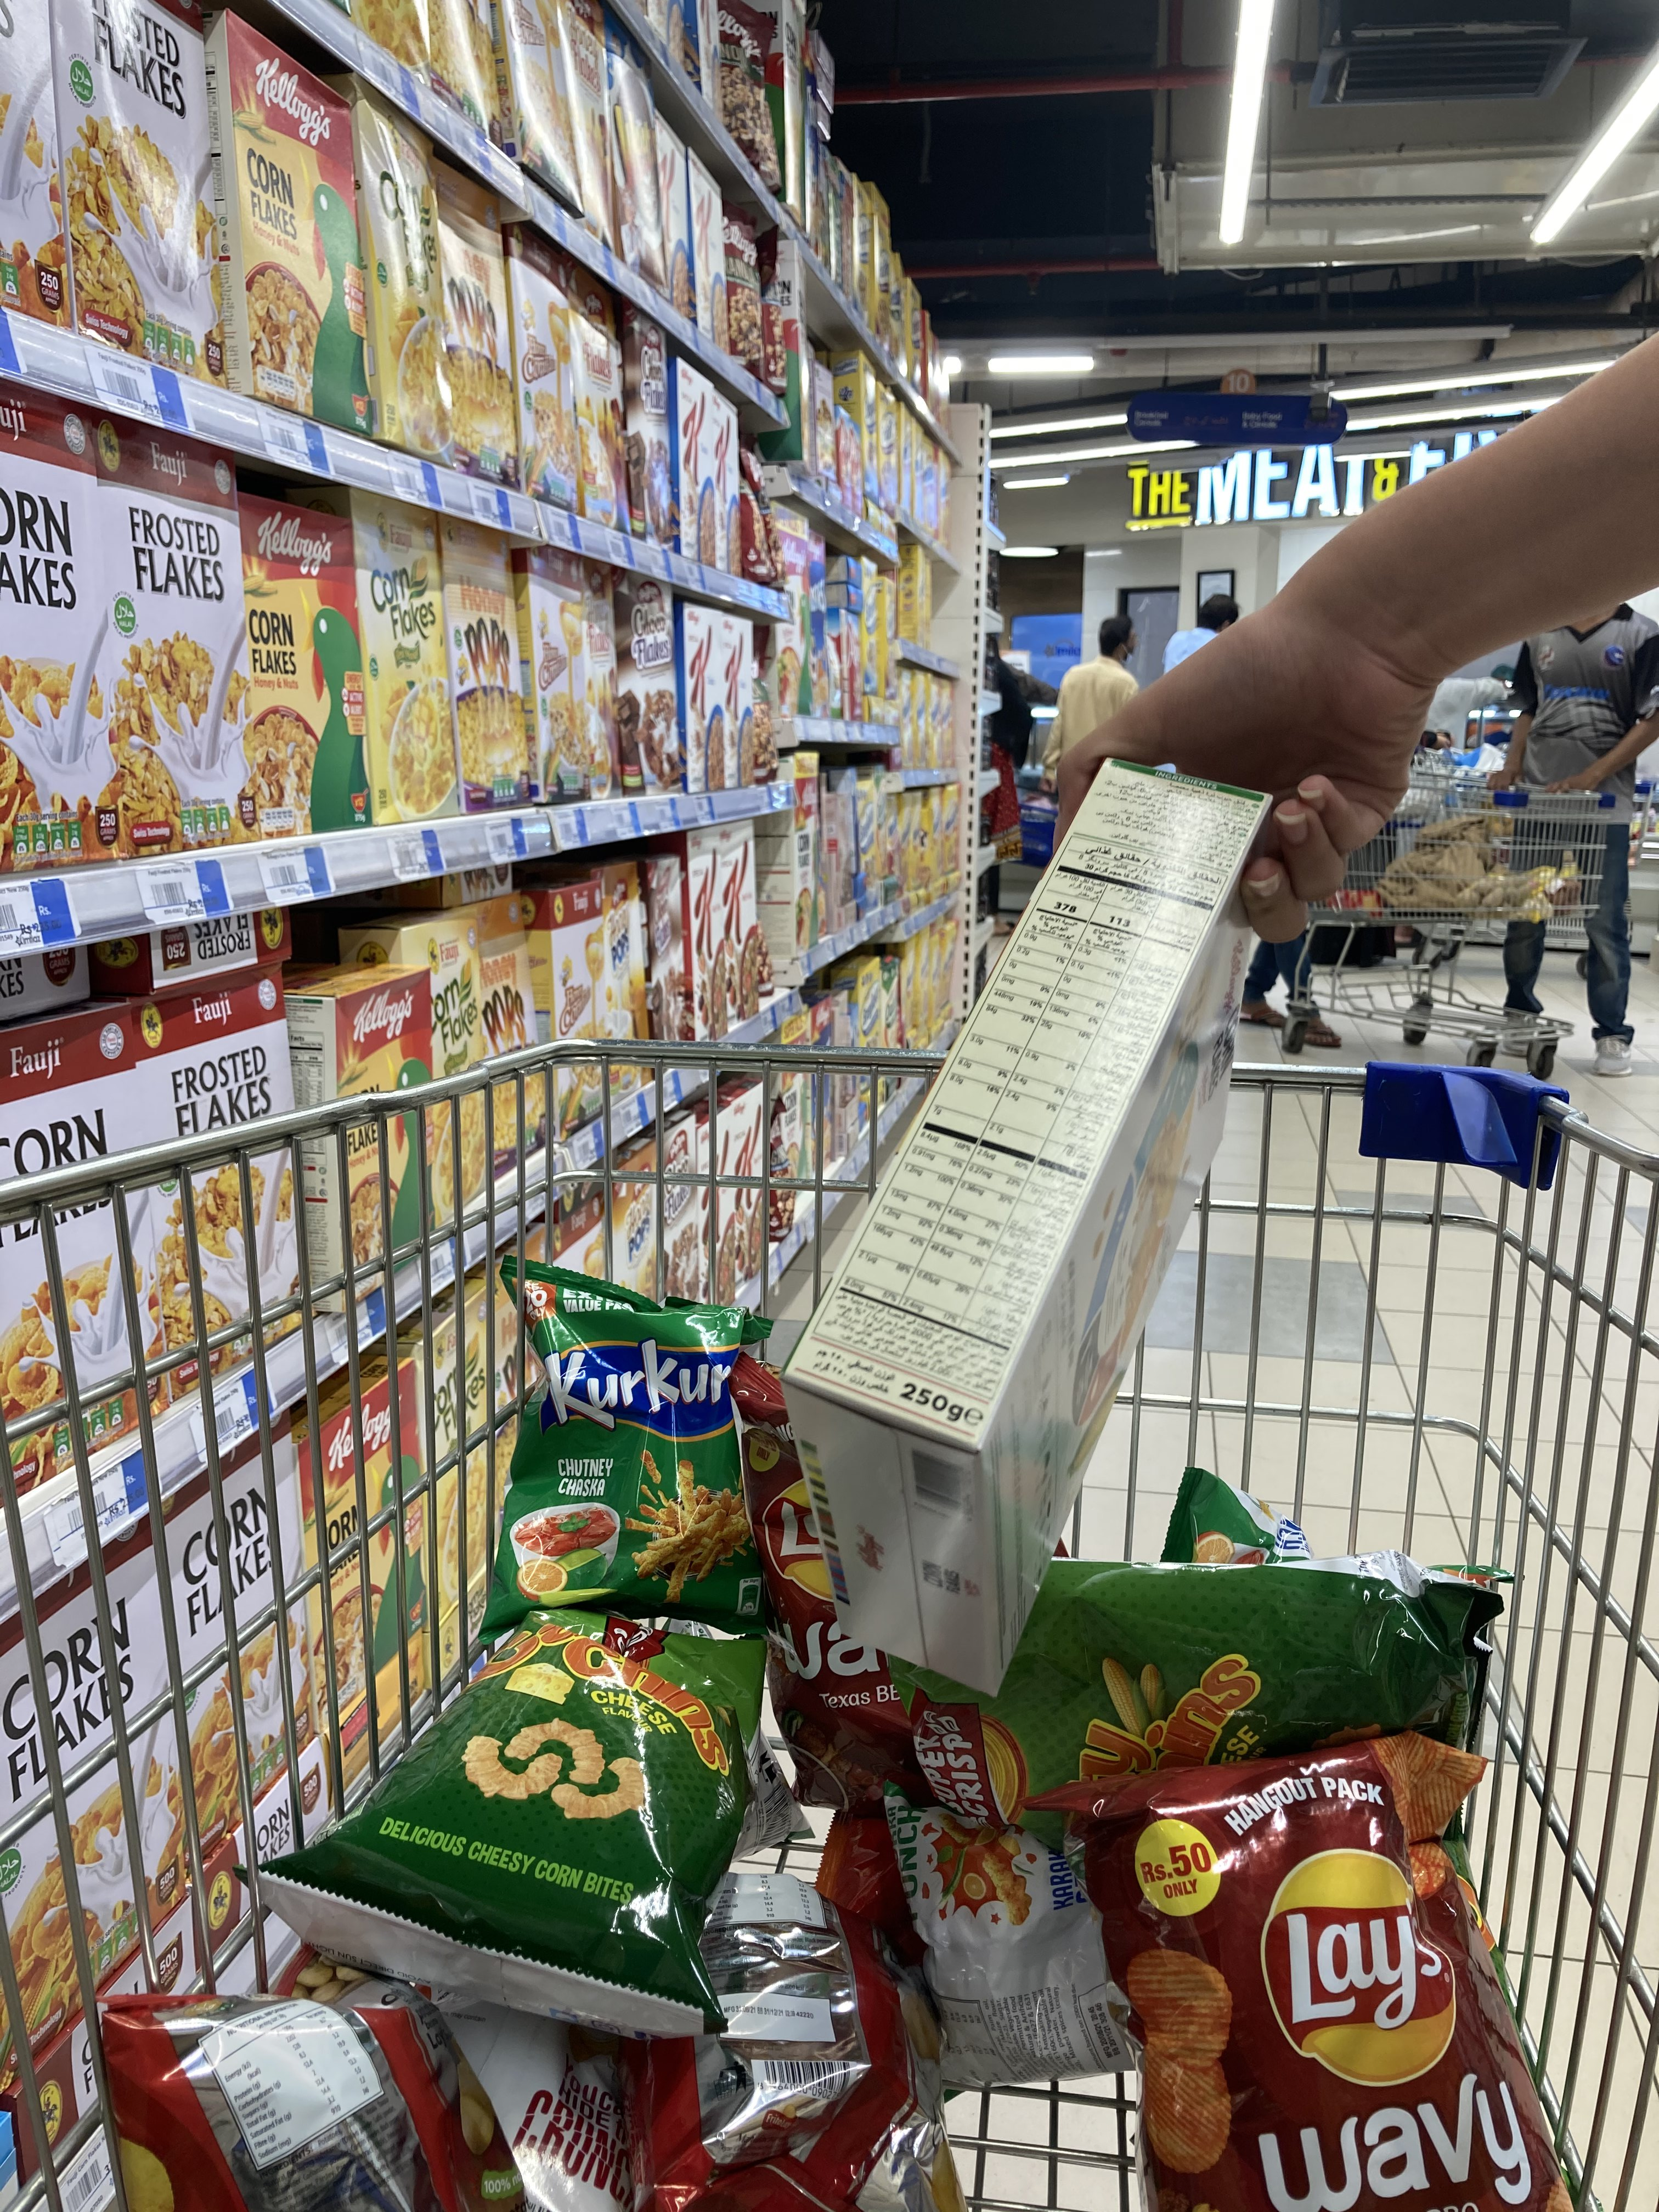Kellogg's Corn Flakes: (779, 749, 1288, 1696)
